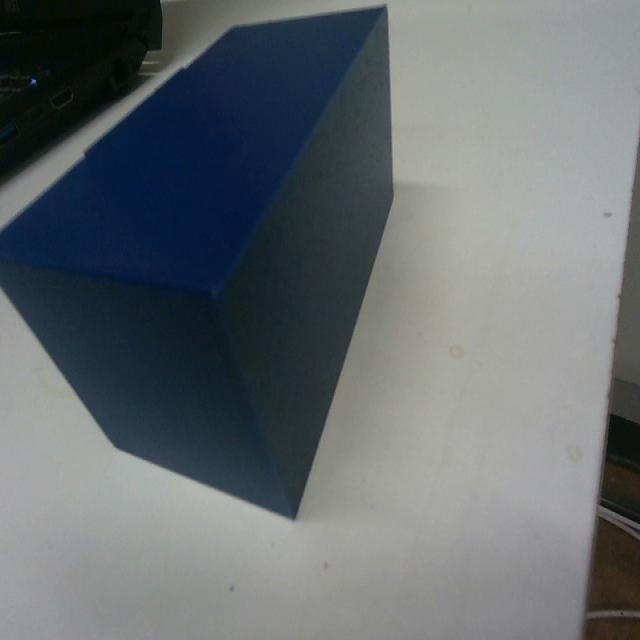Blue Cuboid: (0, 1, 396, 522)
